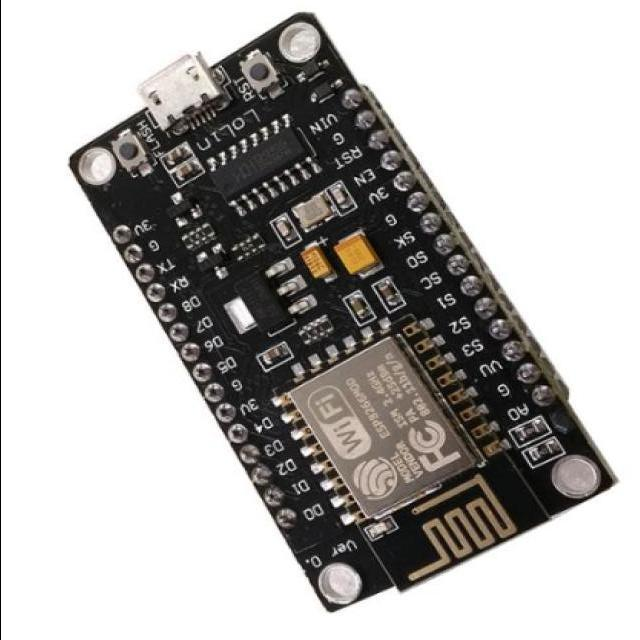Esp8266: (71, 14, 614, 611)
